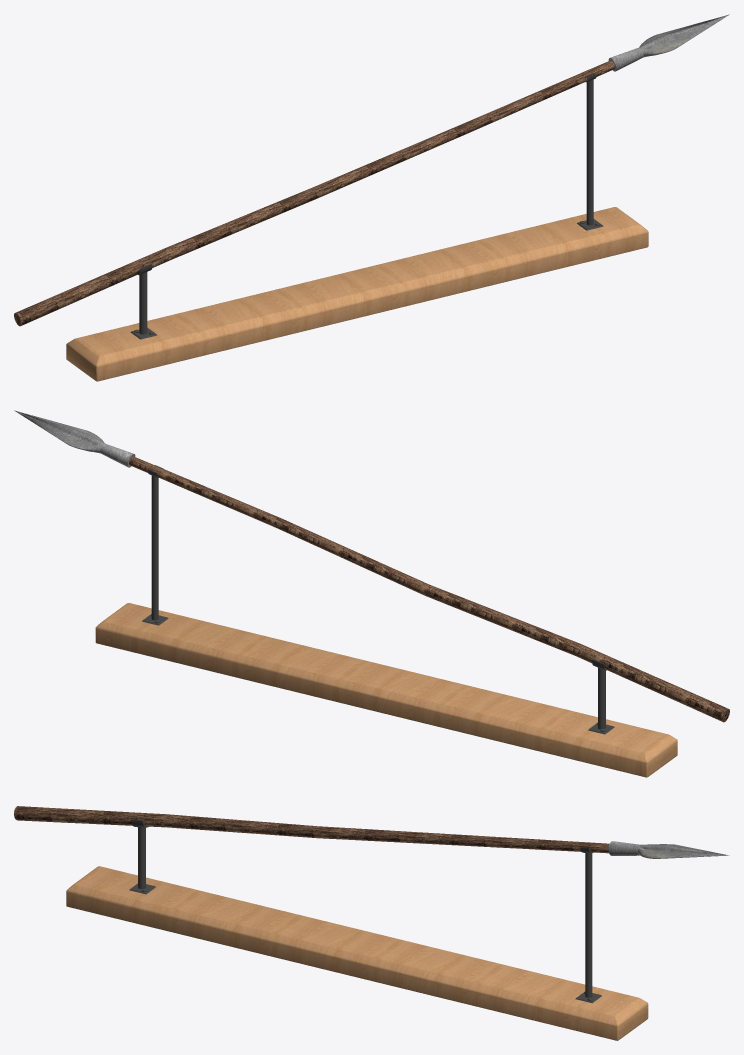
File: Spear1.glb
3 views of the same model, one above another, from view 1: azimuth 30°, elevation 25°; view 2: azimuth 150°, elevation 25°; view 3: azimuth 330°, elevation 25° (orthographic).
Visible parts, largest first — view 1: Wood Stand, Speer Wood Stick, Spear Head, Tube1; view 2: Wood Stand, Speer Wood Stick, Spear Head, Tube1; view 3: Wood Stand, Speer Wood Stick, Spear Head, Tube1, Tube2.
Boxes of the visible parts, x1,y1,x2,y2 form: Wood Stand: [66, 207, 648, 381]; Speer Wood Stick: [14, 60, 614, 326]; Spear Head: [608, 14, 729, 71]; Tube1: [586, 79, 593, 225]; Wood Stand: [95, 603, 677, 777]; Speer Wood Stick: [129, 456, 729, 722]; Spear Head: [14, 410, 135, 467]; Tube1: [151, 475, 158, 620]; Wood Stand: [66, 866, 648, 1040]; Speer Wood Stick: [14, 806, 609, 853]; Spear Head: [608, 841, 729, 858]; Tube1: [585, 852, 592, 997]; Tube2: [138, 827, 145, 888].
Size of the model in its own units: 0.0913 by 0.0243 by 0.00687.
Materials: 4 (3 with a texture image).
